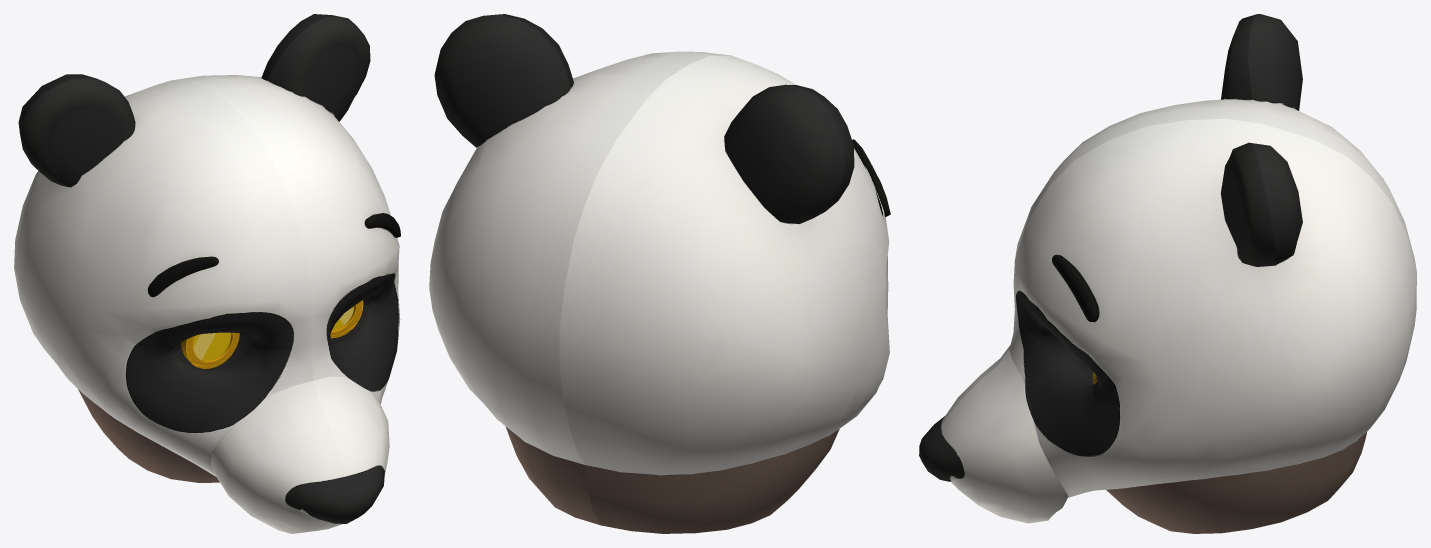
3 views of the same model, side by side, from view 1: azimuth 30°, elevation 25°; view 2: azimuth 150°, elevation 25°; view 3: azimuth 270°, elevation 25° (orthographic). The views are drawn at different scales.
Visible parts, largest first — view 1: Wolf3D_Headwear; view 2: Wolf3D_Headwear; view 3: Wolf3D_Headwear.
Part boxes in pixels (left/top/right/bottom): Wolf3D_Headwear: left=14, top=14, right=400, bottom=533; Wolf3D_Headwear: left=429, top=14, right=890, bottom=533; Wolf3D_Headwear: left=919, top=14, right=1416, bottom=533.
Size of the model in its own units: 0.3433 by 0.3843 by 0.4039.
1 material, 1 textured.
